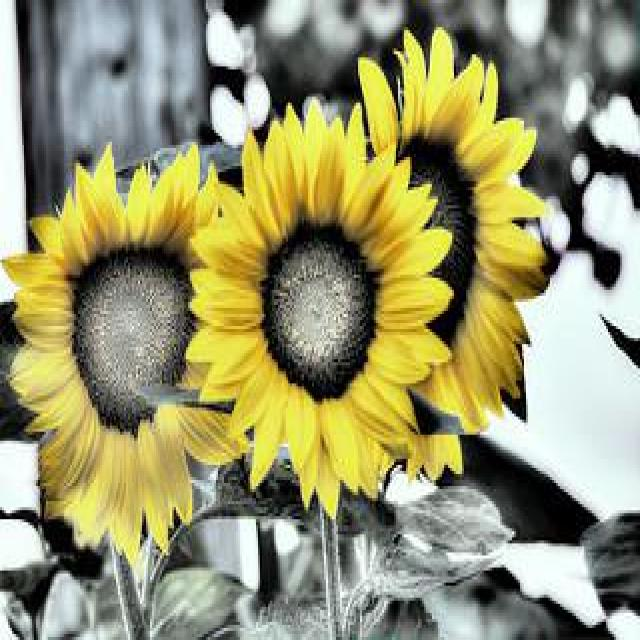sunflower: (184, 97, 454, 516), (3, 142, 247, 563), (344, 30, 552, 435)
